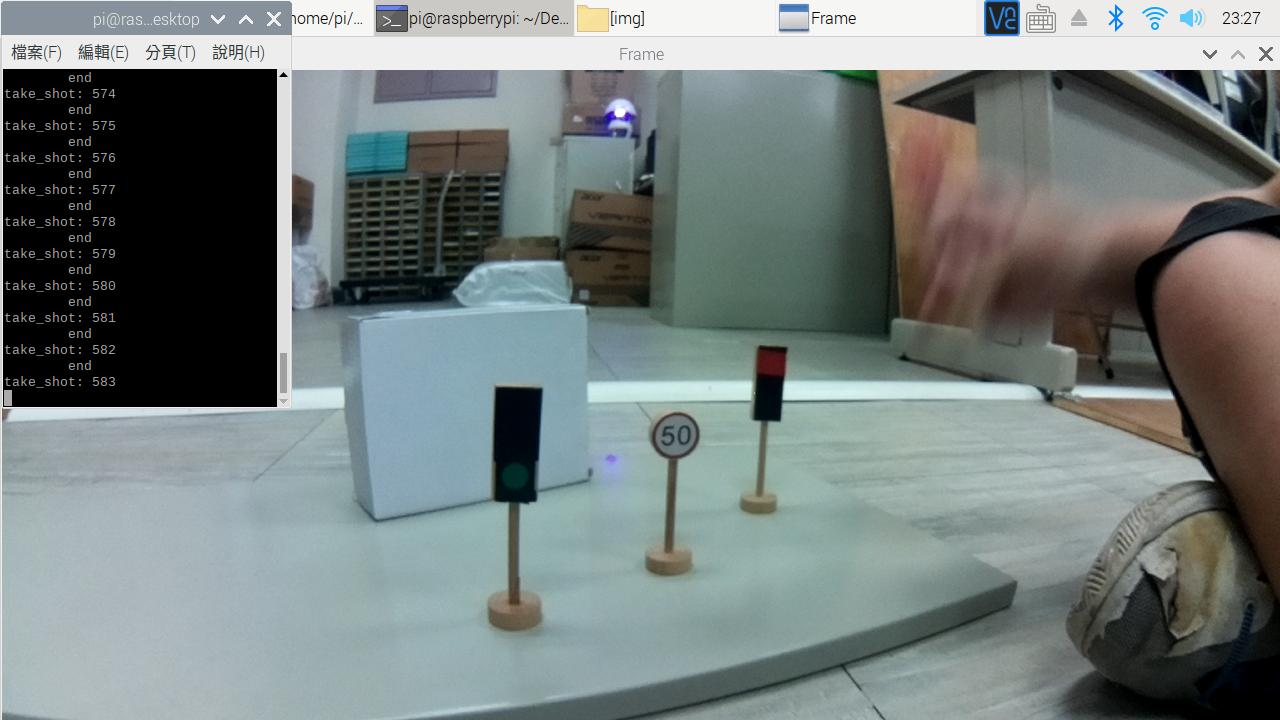Green: (473, 375, 556, 521)
Red: (747, 336, 795, 438)
Speed50: (637, 401, 701, 469)
